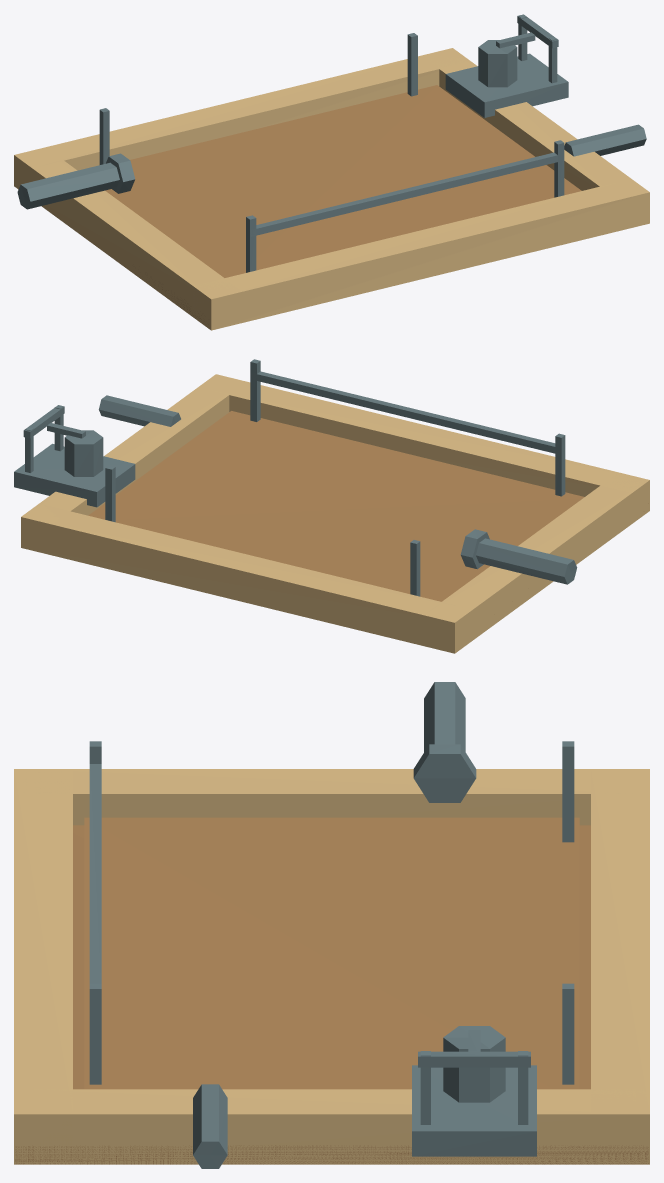
The model's file is manure-lagoon.source.glb.
3 views of the same model, one above another, from view 1: azimuth 30°, elevation 25°; view 2: azimuth 150°, elevation 25°; view 3: azimuth 270°, elevation 25° (orthographic). The views are drawn at different scales.
Visible parts, largest first — view 1: manure-lagoon-low-compacted-earth-embankment-mesh (×4), manure-lagoon-dark-contained-slurry-surface-cue-mesh, manure-lagoon-guarded-pump-service-platform-mesh, manure-lagoon-perimeter-safety-rail-mesh, manure-lagoon-reinforced-inlet-pipe-mesh, manure-lagoon-perimeter-safety-post-mesh (×4), manure-lagoon-small-isolation-pump-cue-mesh, manure-lagoon-outflow-irrigation-connection-mesh, manure-lagoon-inlet-pipe-collar-mesh, manure-lagoon-pump-platform-guard-rail-mesh; view 2: manure-lagoon-low-compacted-earth-embankment-mesh (×4), manure-lagoon-dark-contained-slurry-surface-cue-mesh, manure-lagoon-guarded-pump-service-platform-mesh, manure-lagoon-perimeter-safety-rail-mesh, manure-lagoon-reinforced-inlet-pipe-mesh, manure-lagoon-perimeter-safety-post-mesh (×4), manure-lagoon-small-isolation-pump-cue-mesh, manure-lagoon-outflow-irrigation-connection-mesh, manure-lagoon-inlet-pipe-collar-mesh, manure-lagoon-pump-platform-guard-rail-mesh; view 3: manure-lagoon-dark-contained-slurry-surface-cue-mesh, manure-lagoon-low-compacted-earth-embankment-mesh (×4), manure-lagoon-broad-lined-lagoon-base-mesh, manure-lagoon-guarded-pump-service-platform-mesh, manure-lagoon-perimeter-safety-post-mesh (×3), manure-lagoon-small-isolation-pump-cue-mesh, manure-lagoon-inlet-pipe-collar-mesh, manure-lagoon-perimeter-safety-rail-mesh, manure-lagoon-outflow-irrigation-connection-mesh, manure-lagoon-reinforced-inlet-pipe-mesh, manure-lagoon-pump-platform-guard-rail-mesh, manure-lagoon-pump-platform-guard-post-mesh (×2).
Boxes of the visible parts, x1,y1,x2,y2 form: manure-lagoon-low-compacted-earth-embankment-mesh (×4): [14, 48, 649, 330]; manure-lagoon-dark-contained-slurry-surface-cue-mesh: [105, 85, 581, 277]; manure-lagoon-guarded-pump-service-platform-mesh: [445, 53, 568, 117]; manure-lagoon-perimeter-safety-rail-mesh: [250, 152, 557, 236]; manure-lagoon-reinforced-inlet-pipe-mesh: [17, 162, 119, 209]; manure-lagoon-perimeter-safety-post-mesh (×4): [99, 33, 564, 272]; manure-lagoon-small-isolation-pump-cue-mesh: [478, 40, 517, 87]; manure-lagoon-outflow-irrigation-connection-mesh: [564, 124, 646, 156]; manure-lagoon-inlet-pipe-collar-mesh: [106, 153, 135, 193]; manure-lagoon-pump-platform-guard-rail-mesh: [517, 14, 558, 48]; manure-lagoon-low-compacted-earth-embankment-mesh (×4): [21, 374, 649, 653]; manure-lagoon-dark-contained-slurry-surface-cue-mesh: [88, 411, 584, 601]; manure-lagoon-guarded-pump-service-platform-mesh: [14, 443, 135, 507]; manure-lagoon-perimeter-safety-rail-mesh: [251, 371, 555, 453]; manure-lagoon-reinforced-inlet-pipe-mesh: [476, 538, 577, 584]; manure-lagoon-perimeter-safety-post-mesh (×4): [105, 359, 565, 596]; manure-lagoon-small-isolation-pump-cue-mesh: [64, 430, 103, 476]; manure-lagoon-outflow-irrigation-connection-mesh: [98, 395, 180, 426]; manure-lagoon-inlet-pipe-collar-mesh: [460, 529, 489, 569]; manure-lagoon-pump-platform-guard-rail-mesh: [23, 405, 64, 438]; manure-lagoon-dark-contained-slurry-surface-cue-mesh: [84, 817, 579, 1089]; manure-lagoon-low-compacted-earth-embankment-mesh (×4): [14, 769, 649, 1164]; manure-lagoon-broad-lined-lagoon-base-mesh: [15, 825, 648, 1164]; manure-lagoon-guarded-pump-service-platform-mesh: [412, 1065, 536, 1156]; manure-lagoon-perimeter-safety-post-mesh (×3): [89, 741, 574, 1084]; manure-lagoon-small-isolation-pump-cue-mesh: [443, 1026, 505, 1102]; manure-lagoon-inlet-pipe-collar-mesh: [413, 744, 476, 802]; manure-lagoon-perimeter-safety-rail-mesh: [89, 764, 101, 983]; manure-lagoon-outflow-irrigation-connection-mesh: [193, 1084, 227, 1168]; manure-lagoon-reinforced-inlet-pipe-mesh: [424, 682, 465, 751]; manure-lagoon-pump-platform-guard-rail-mesh: [418, 1051, 530, 1067]; manure-lagoon-pump-platform-guard-post-mesh (×2): [420, 1051, 528, 1124].
Bounding box in the file's own units: 5.83 × 0.86 × 3.66.
